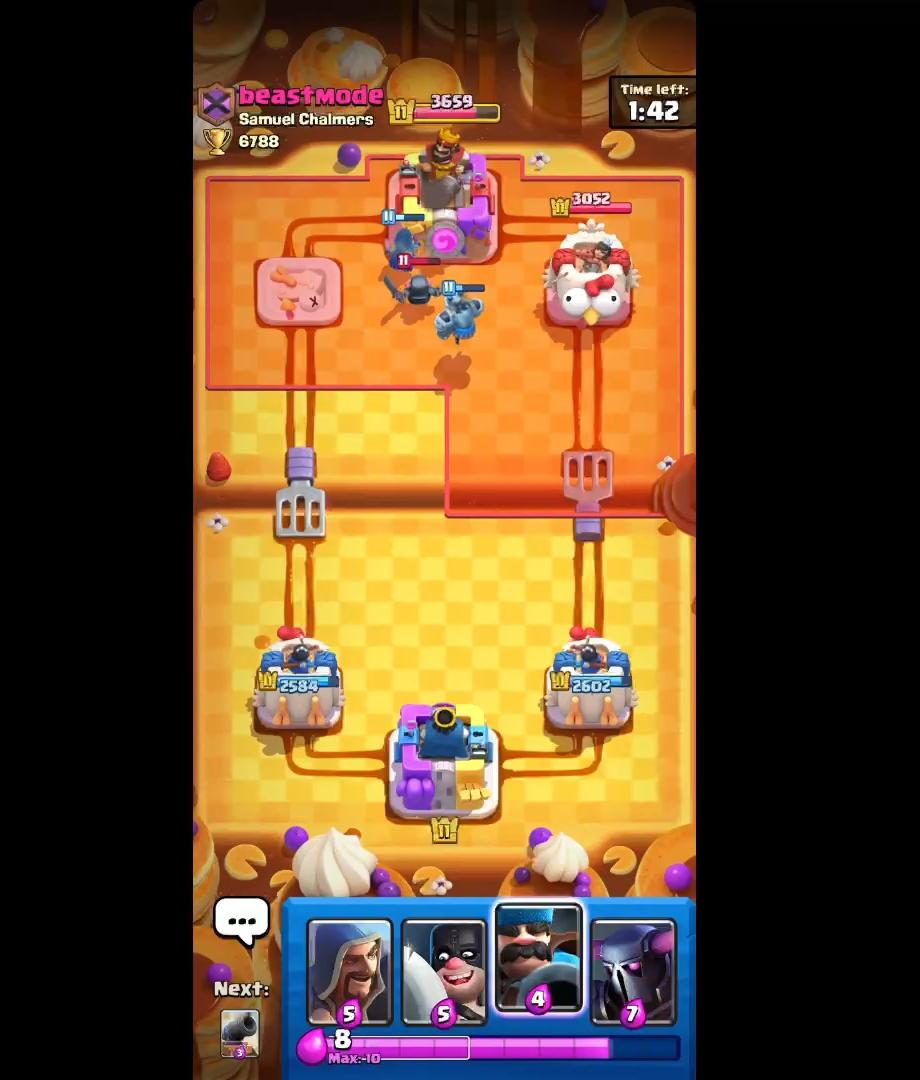Mini Pekka: (383, 252, 452, 305)
